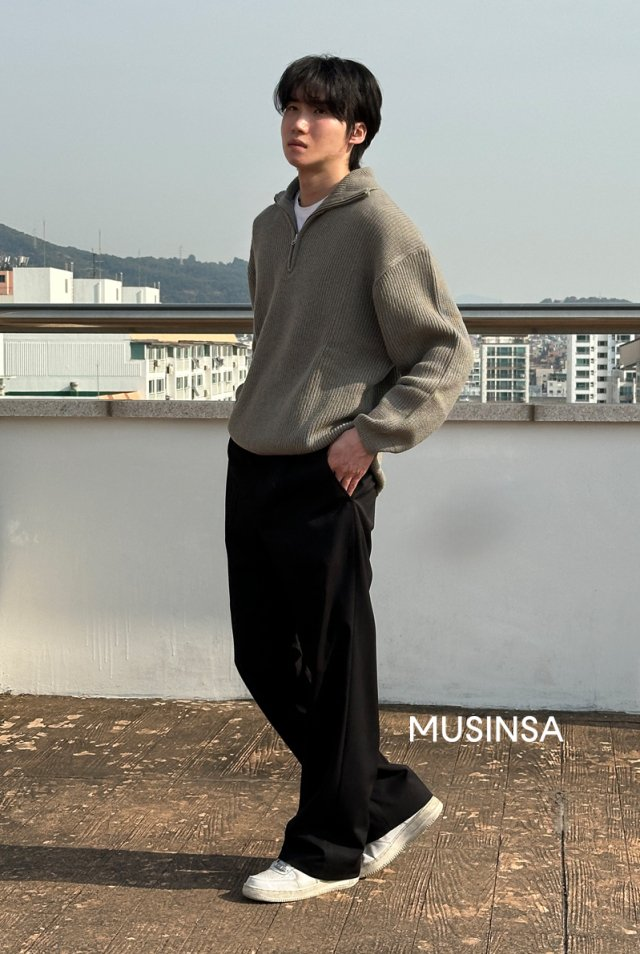Pants: (217, 427, 429, 866)
Shoes: (236, 795, 449, 906)
Top: (223, 165, 481, 464)
